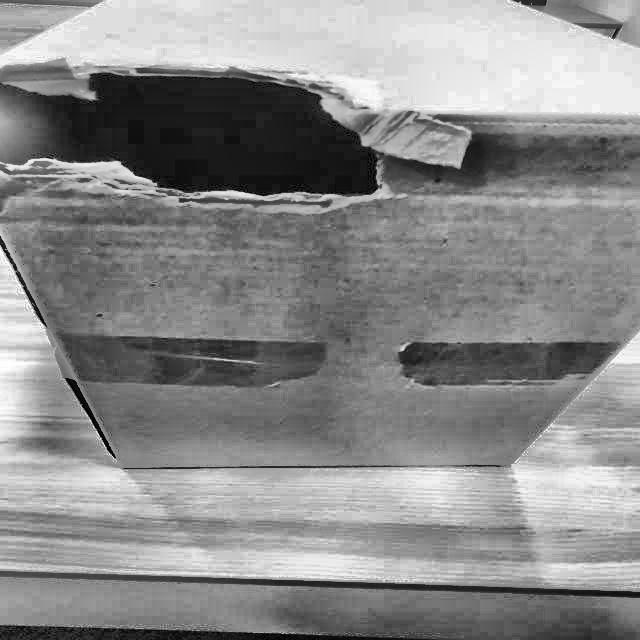box: (1, 0, 639, 481)
hole: (3, 60, 391, 216)
